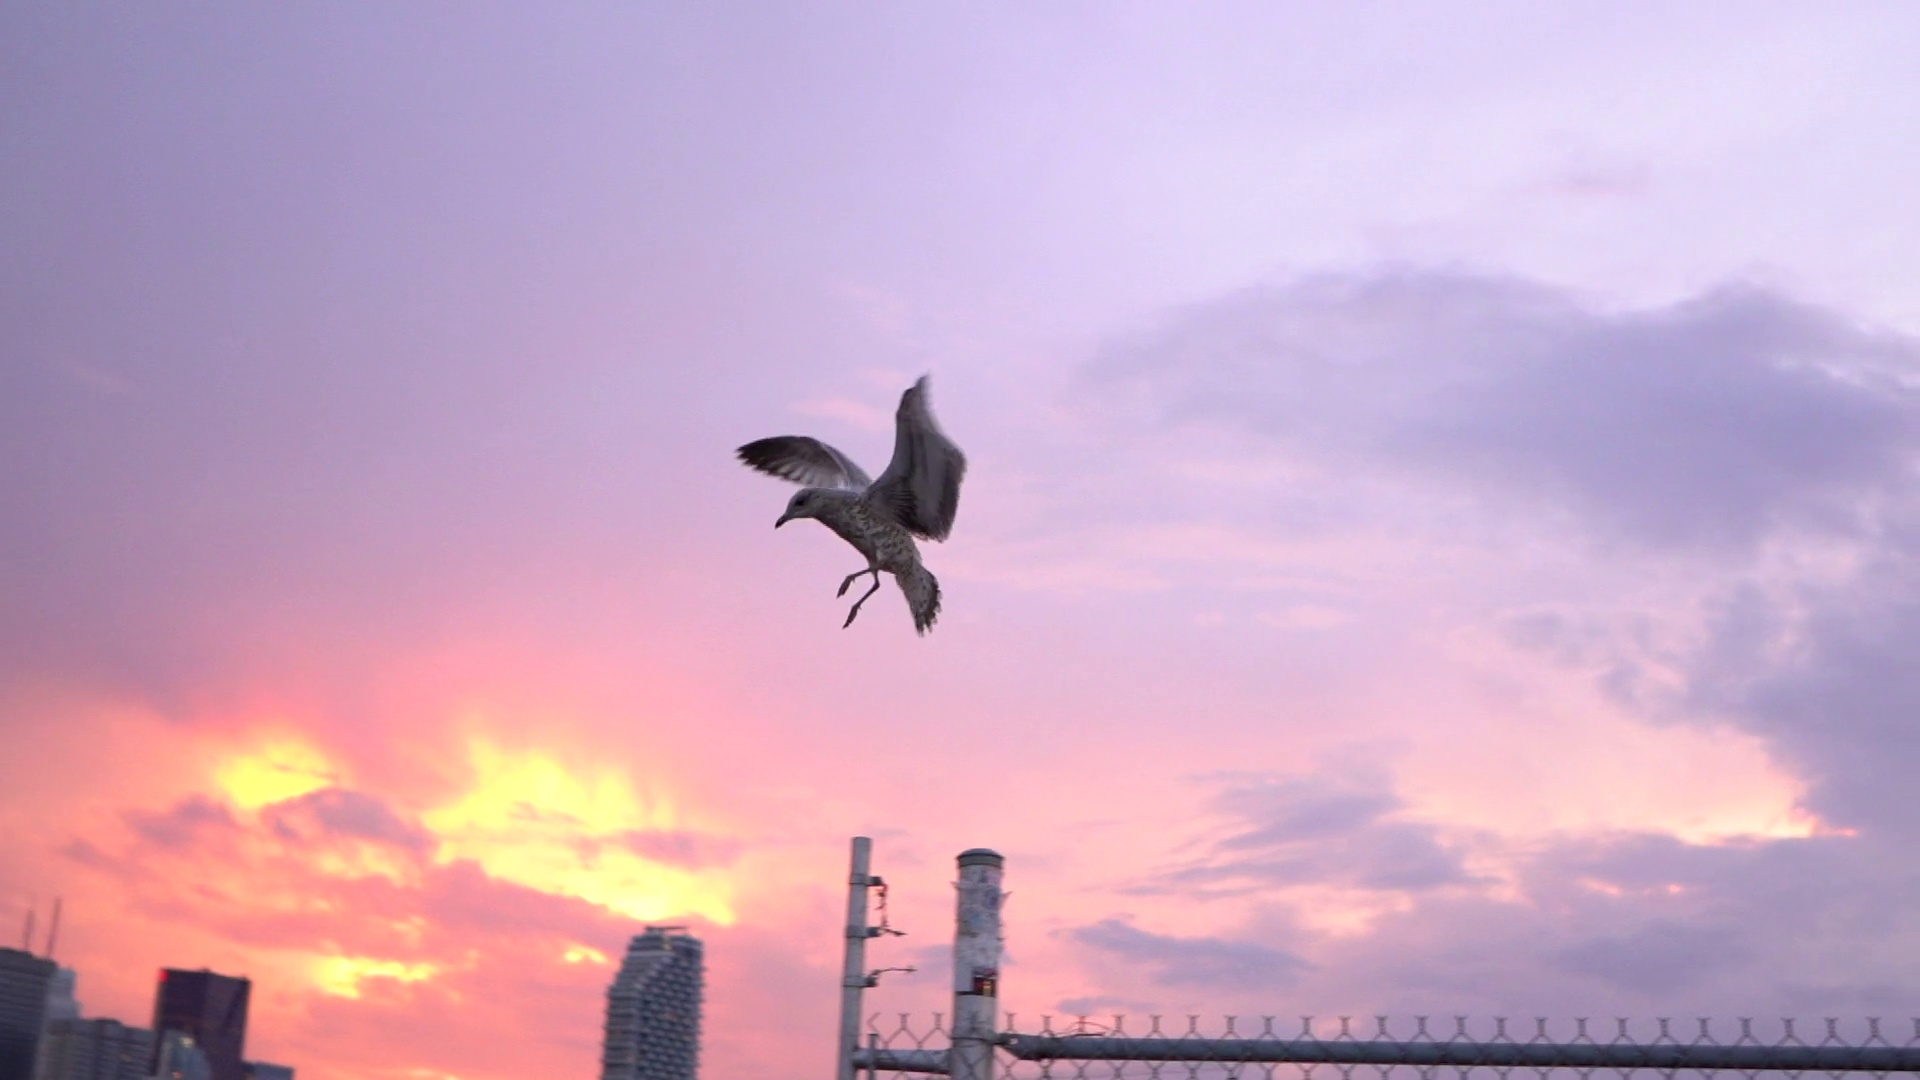bird: (736, 371, 965, 633)
